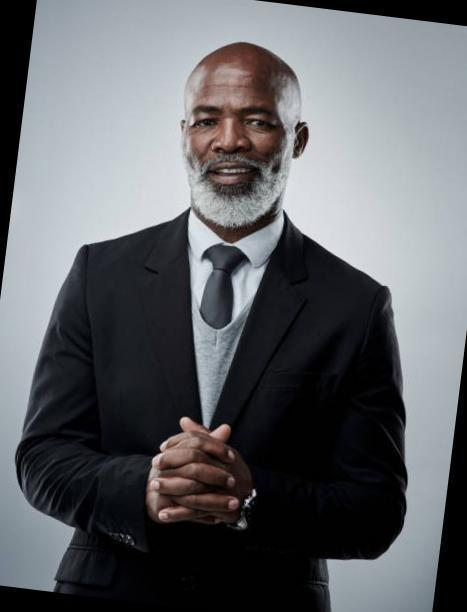Sober: (192, 67, 282, 216)
